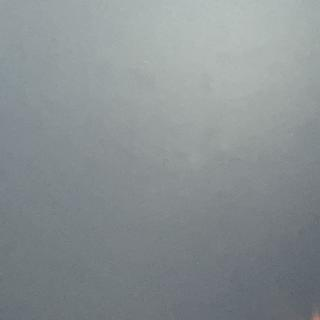fire: (307, 309, 320, 320)
